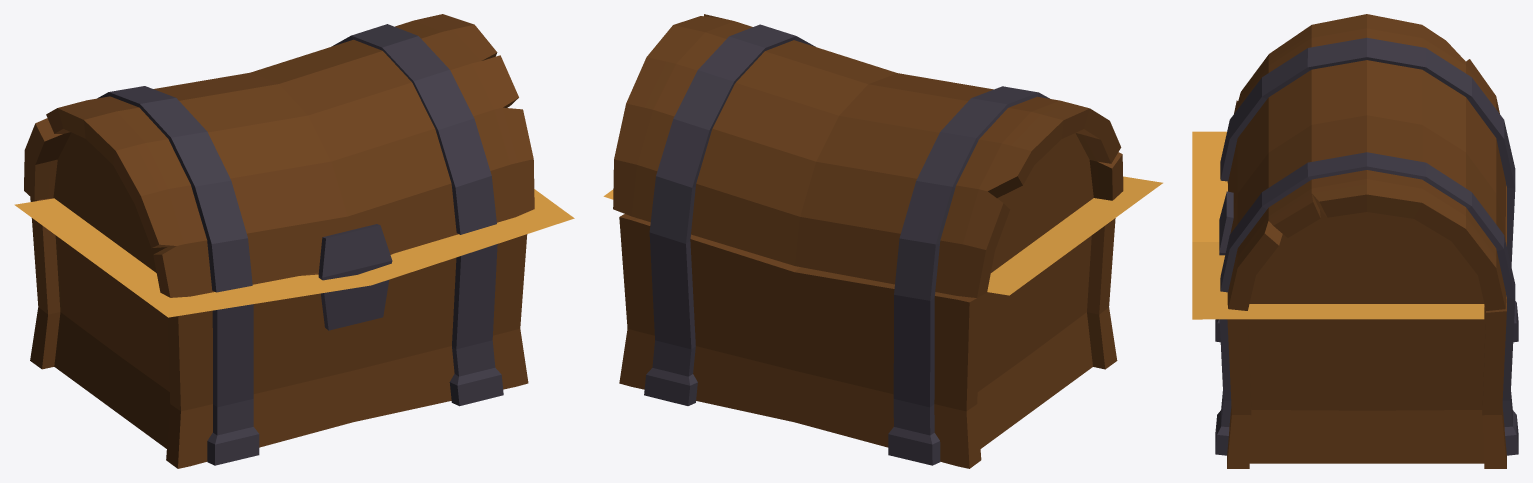
The model's file is SM_TreassureChest_2.fbx.
3 renders of one model, left to right at view 1: azimuth 30°, elevation 25°; view 2: azimuth 150°, elevation 25°; view 3: azimuth 270°, elevation 25°, orthographic. The views are drawn at different scales.
Parts seen in each view (by area): view 1: Chest_Body.003; view 2: Chest_Body.003; view 3: Chest_Body.003.
Boxes of the visible parts, <box> form: Chest_Body.003: <box>14,14,574,468</box>; Chest_Body.003: <box>603,14,1162,468</box>; Chest_Body.003: <box>1192,14,1518,468</box>.
Size of the model in its own units: 97.65 by 71.69 by 69.45.
